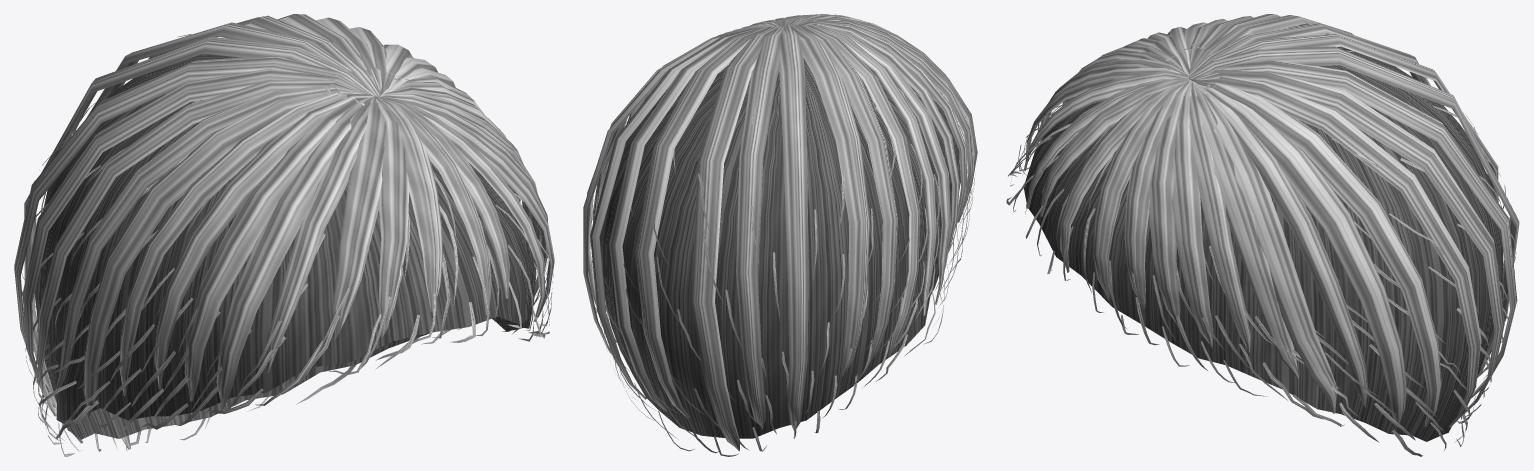
The model's file is unified_f_short.glb.
The picture shows the model from 3 angles, left to right: view 1: azimuth 30°, elevation 25°; view 2: azimuth 150°, elevation 25°; view 3: azimuth 270°, elevation 25°; orthographic projection. The views are drawn at different scales.
Parts seen in each view (by area): view 1: Hair_directional_locks, Hair_scalp, Hair_layered_strands; view 2: Hair_directional_locks, Hair_scalp, Hair_layered_strands; view 3: Hair_directional_locks, Hair_scalp, Hair_layered_strands.
Boxes of the visible parts, box(x1,y1,x2,y2) form: Hair_directional_locks: box(14, 14, 554, 449); Hair_scalp: box(34, 53, 536, 439); Hair_layered_strands: box(19, 34, 553, 456); Hair_directional_locks: box(583, 14, 977, 451); Hair_scalp: box(599, 58, 960, 438); Hair_layered_strands: box(588, 25, 974, 456); Hair_directional_locks: box(1023, 14, 1519, 427); Hair_scalp: box(1024, 46, 1503, 441); Hair_layered_strands: box(1006, 44, 1516, 456).
Size of the model in its own units: 0.0915 by 0.0941 by 0.1087.
2 materials, 2 textured.
